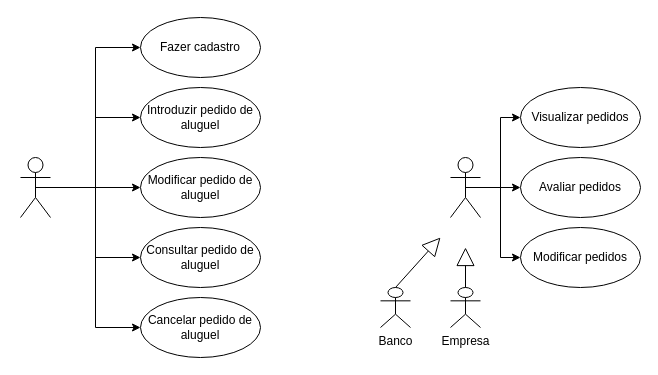
Some shapes in this 658 by 375 pixel diagram are drawn without their labels. Each missing label, with the box of its shape:
Agente: (450, 156, 480, 218)
Cliente: (20, 156, 50, 218)
